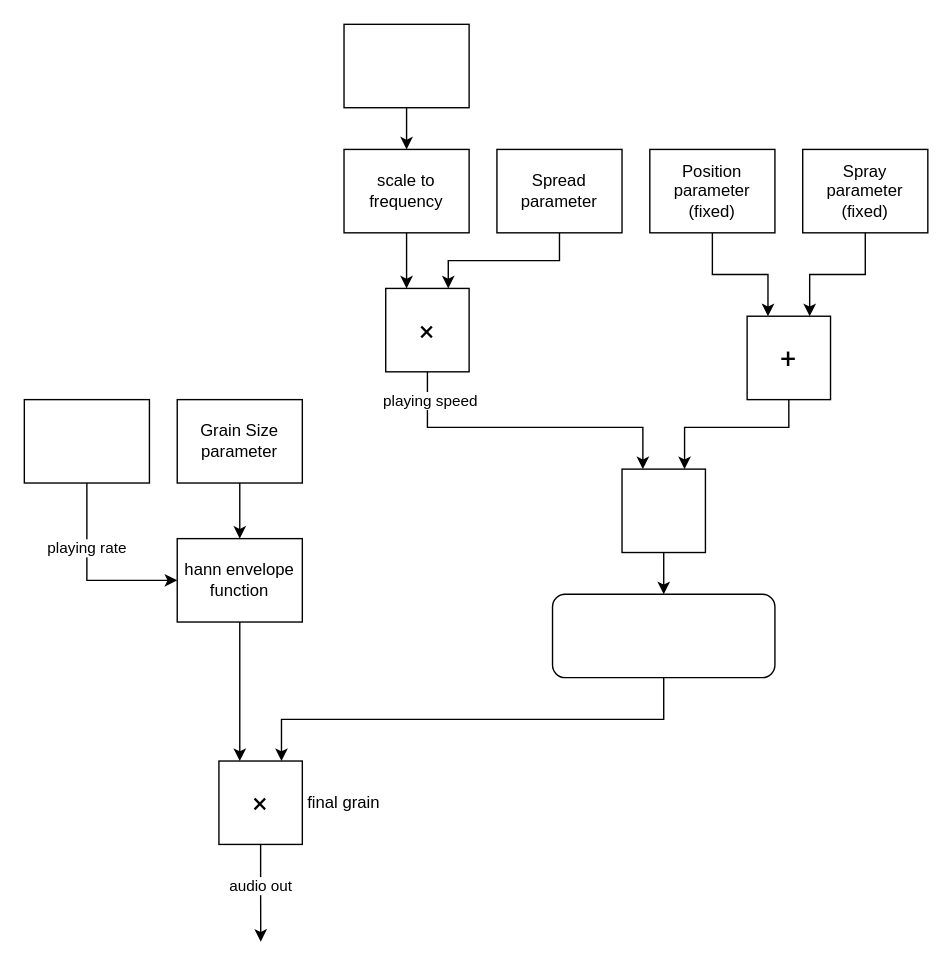
This 952x977 diagram has some shape labels left out. Here are the shapes that lost their labels. From the top down, the centre of each, then its label:
At pixel 406 65: "Pitch parameter".
At pixel 86 440: "Density parameter".
At pixel 663 510: "peek".
At pixel 663 635: "buffer".
